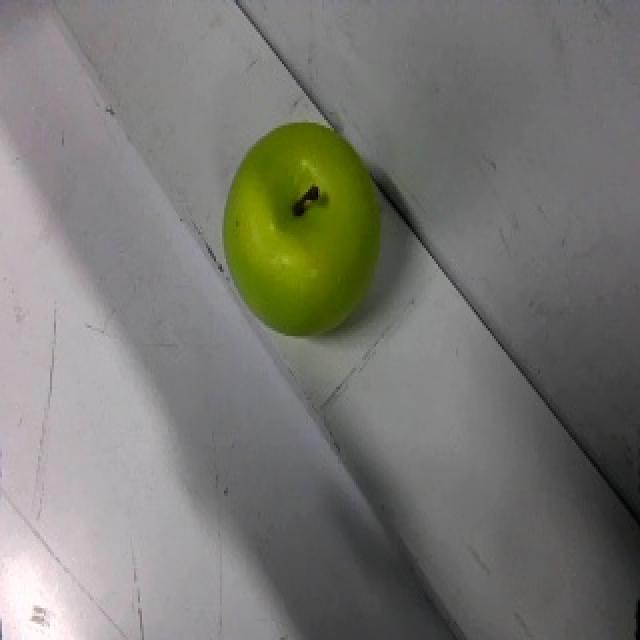apple: (220, 119, 383, 340)
